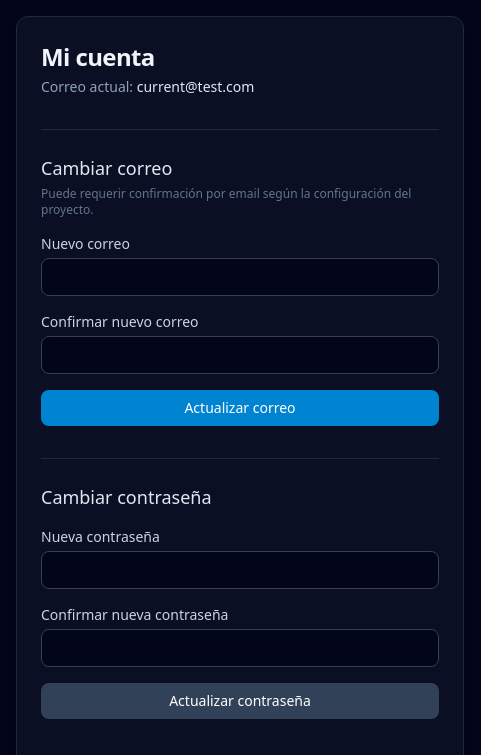
ProfilePage › P7: mismo correo que el actual muestra error
expect the heading "Mi cuenta" is shown: met, box [41,40,155,73]
Type "current@test.com" into the field labelled "Nuevo correo" at (240, 277), box [41,258,439,296]
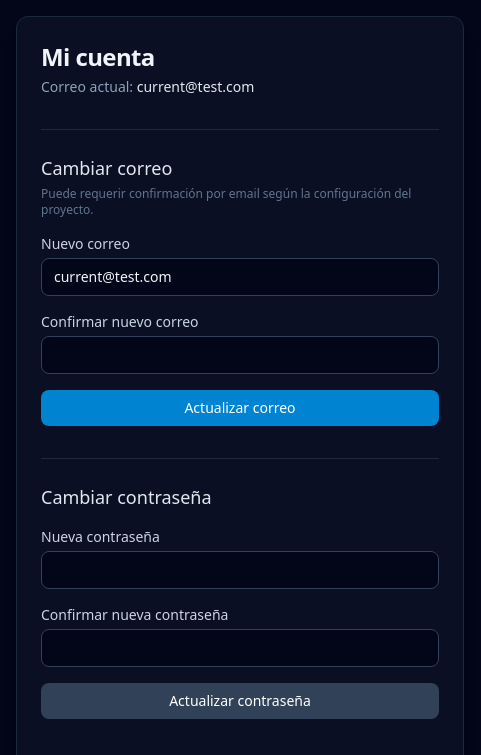
Type "current@test.com" into the field labelled "Confirmar nuevo correo" at (240, 355), box [41,336,439,374]
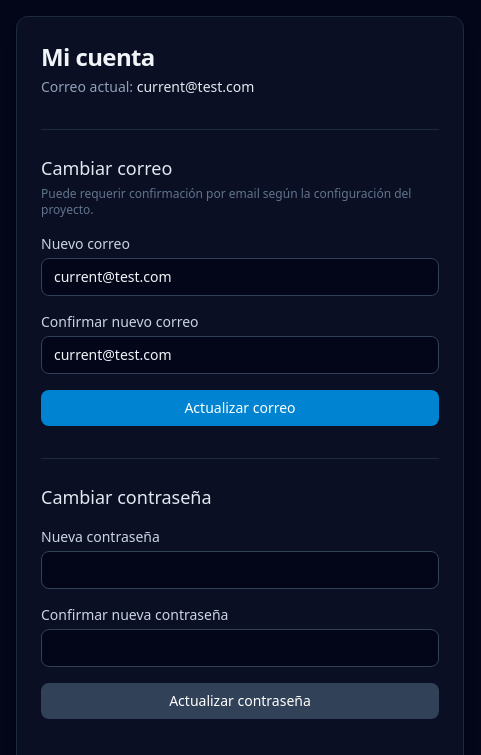
Click the button with test id "profile-submit-email" at (240, 408), box [41,390,439,426]
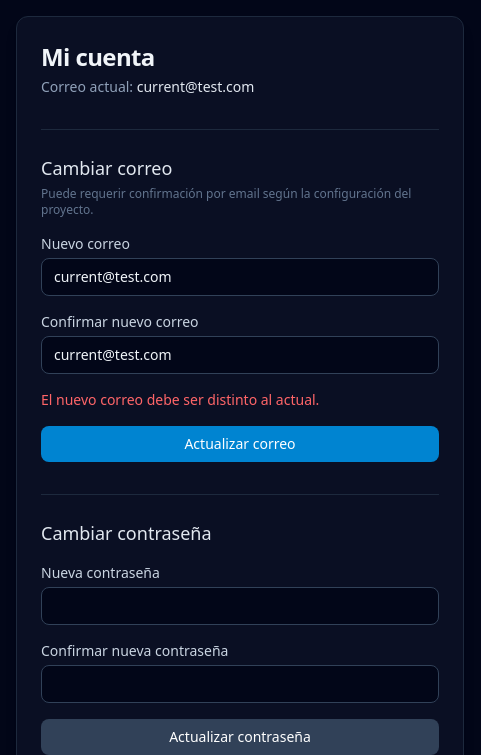
expect the text "El nuevo correo debe ser distinto al actual." is shown: met, box [41,390,319,409]
